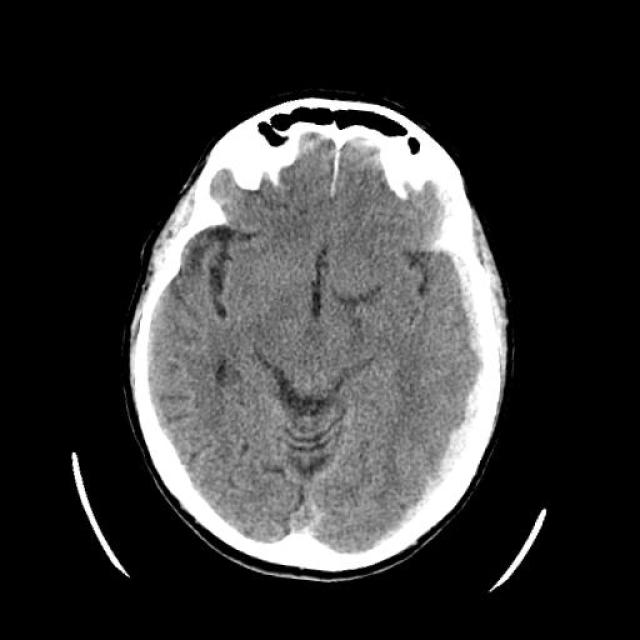Subdural: (402, 257, 538, 558)
